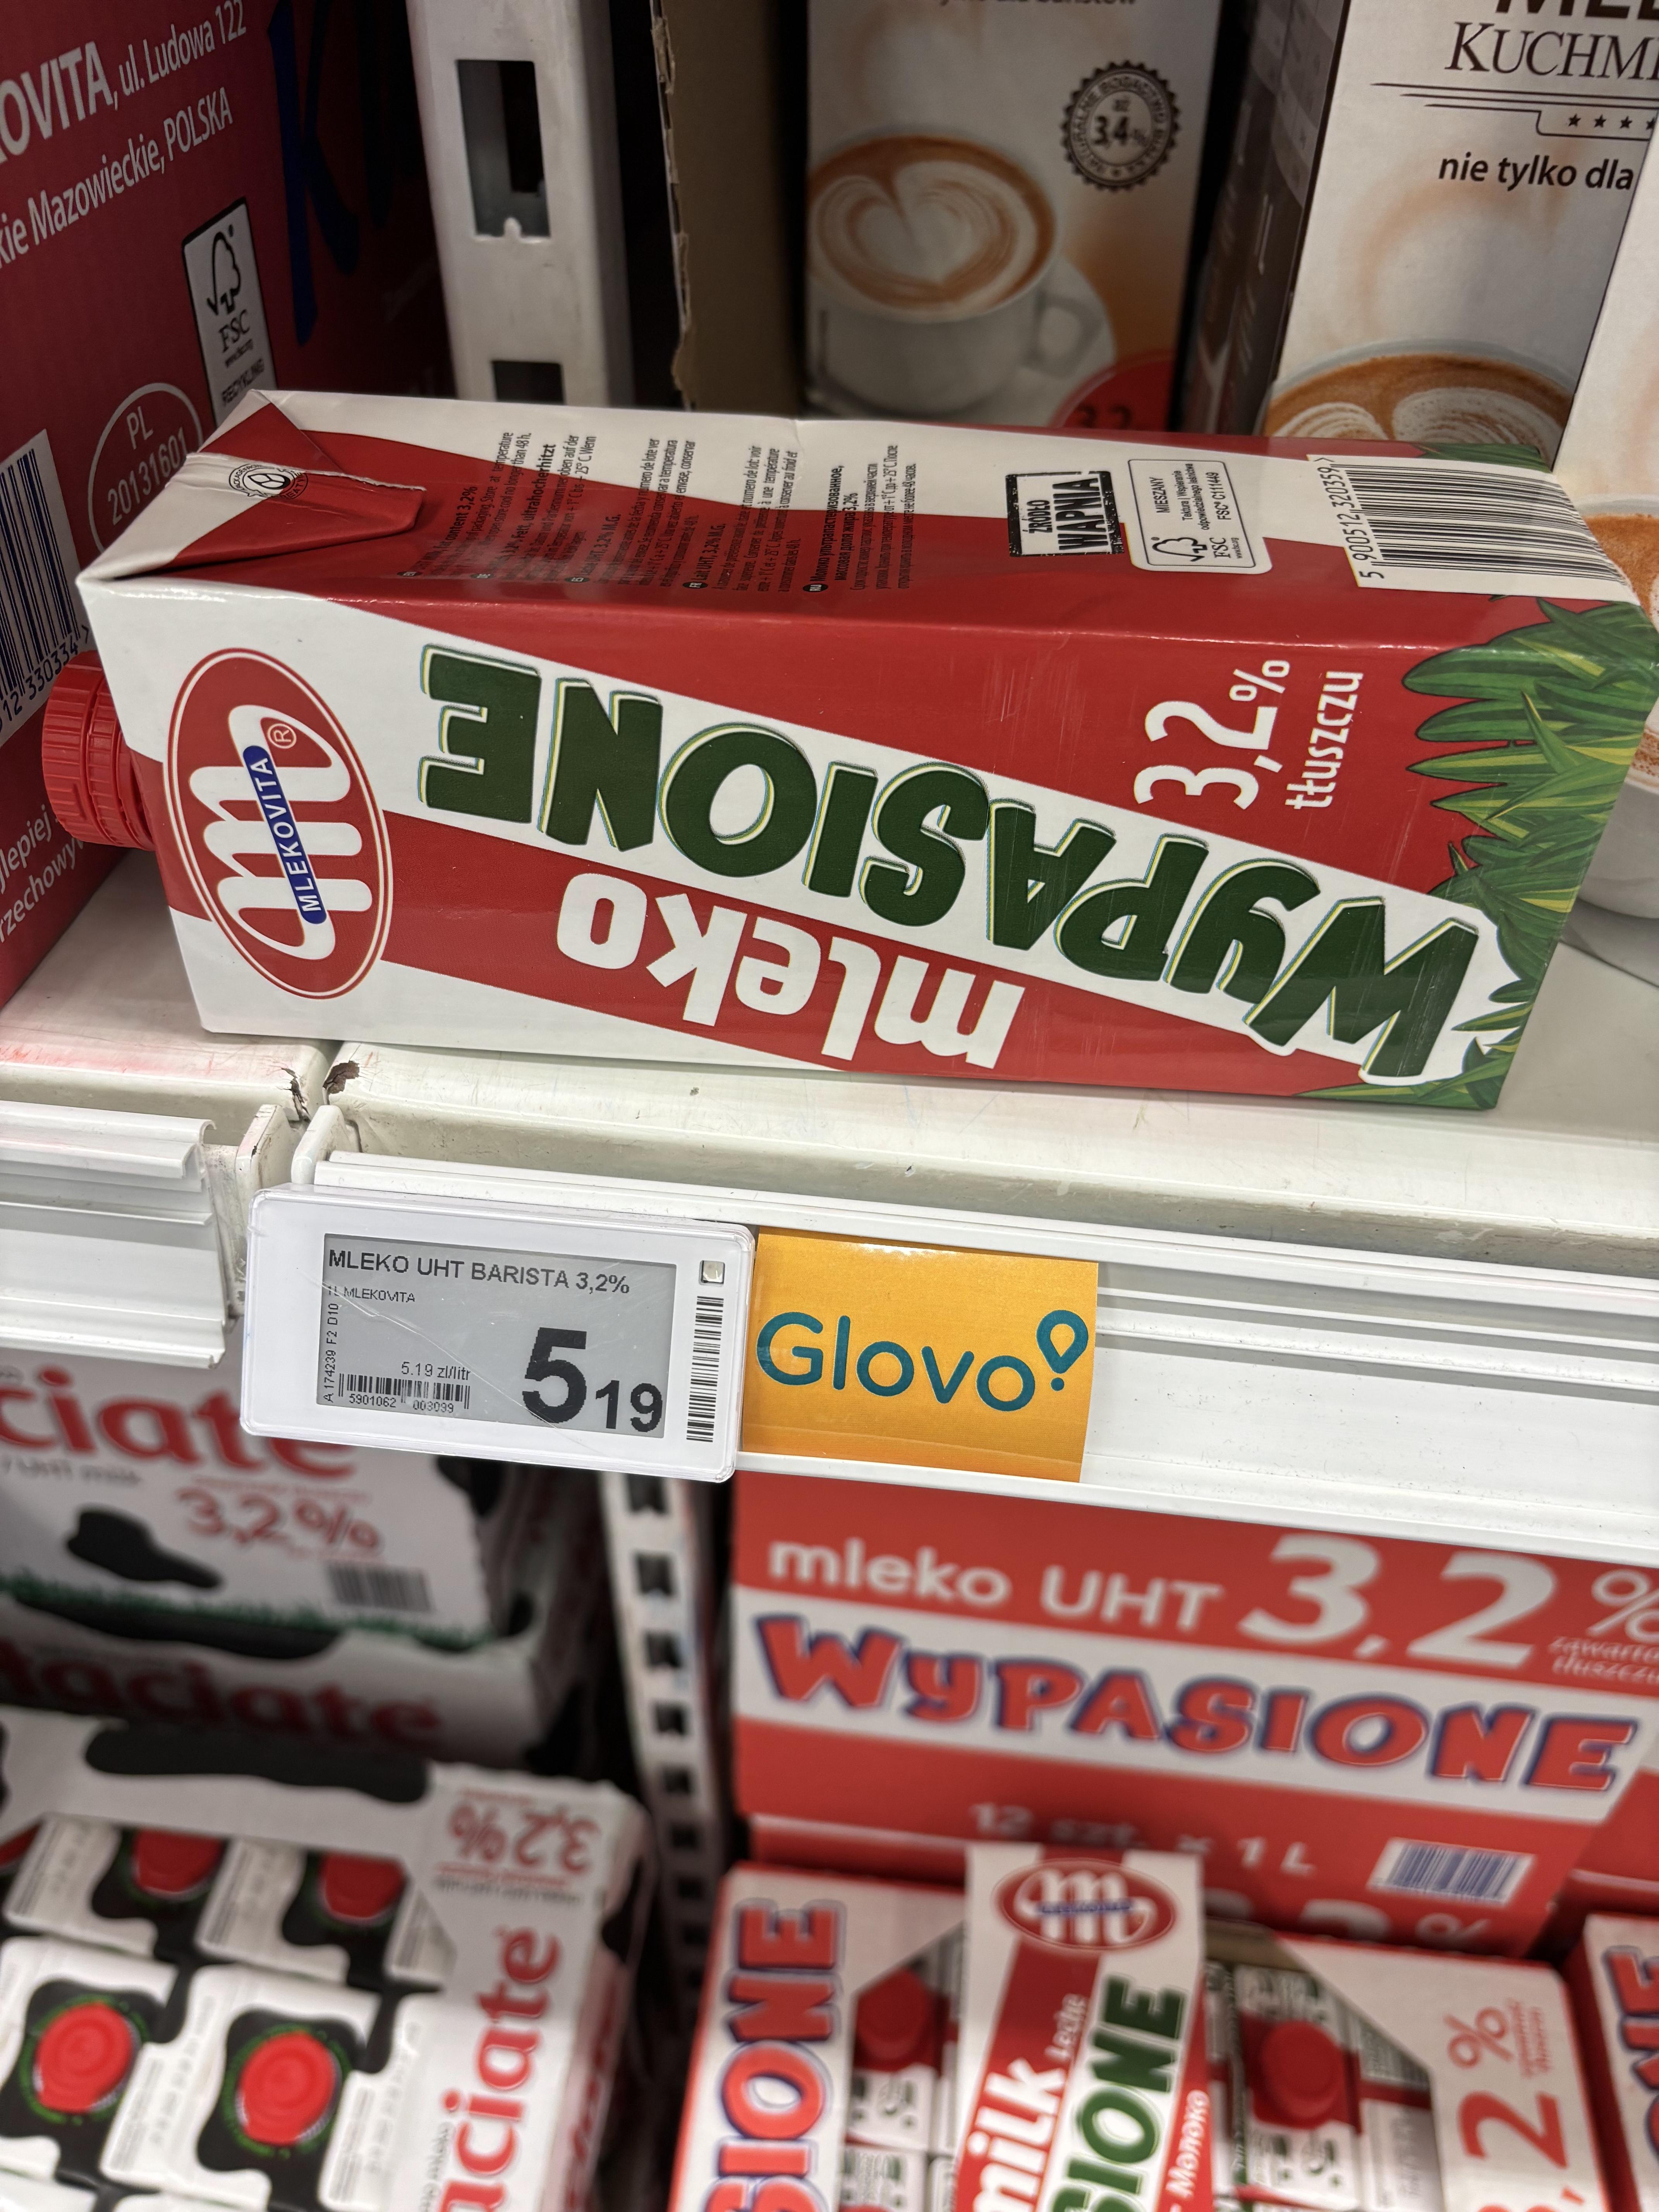Milk: (113, 381, 1610, 1148)
